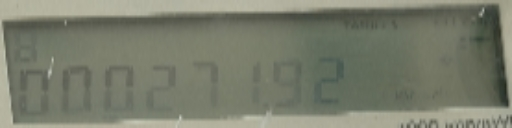0: (19, 62, 52, 121), (60, 59, 93, 118), (103, 60, 136, 119)
1: (230, 54, 263, 113)
2: (146, 58, 179, 117), (316, 53, 349, 112)
7: (189, 56, 222, 115)
9: (271, 53, 304, 112)
d: (262, 97, 275, 110)
